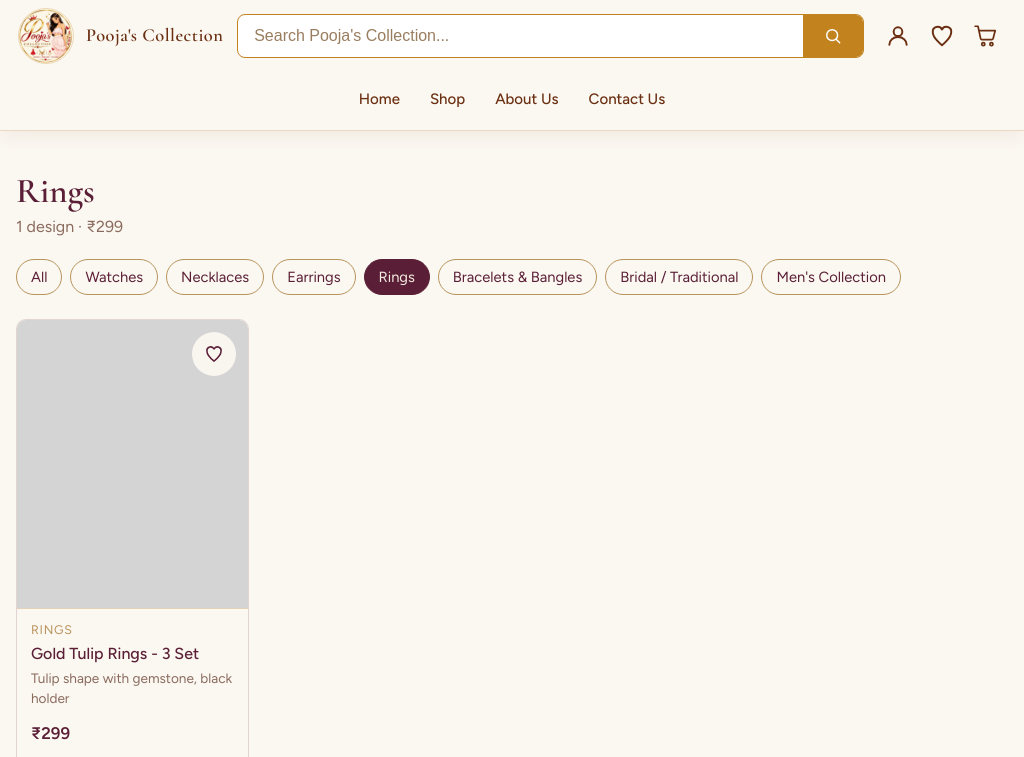
Test case: clickable product cards › asks guests to log in before wishlisting from a card
Click the button named "add gold tulip rings - 3 set to wishlist": {"x": 214, "y": 354} 192,332 -> 236,376
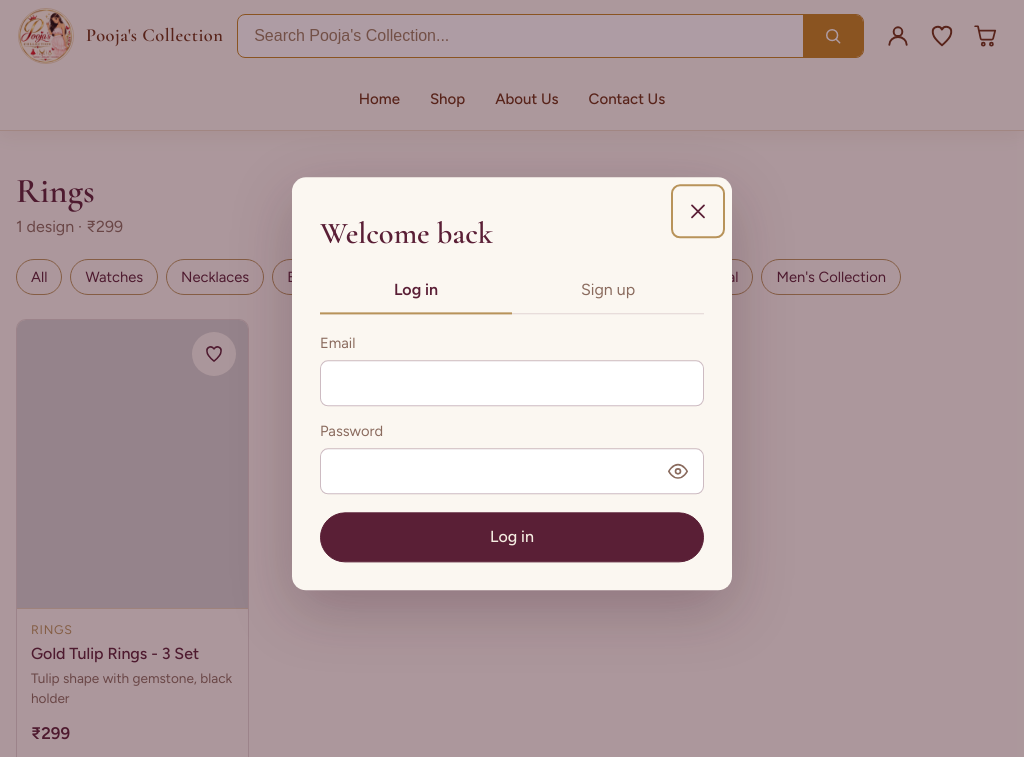
Expected: the heading "Rings" is shown, 16,170 -> 95,212
Now the dialog "Welcome back Log in Sign up Email Password Log in" is shown, box 292,177 -> 732,591
